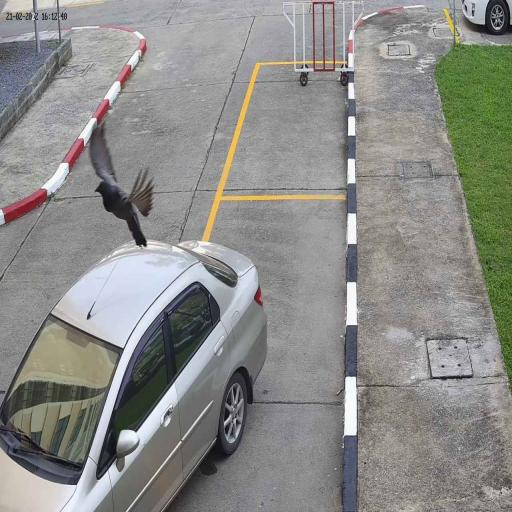car: (0, 238, 269, 512)
